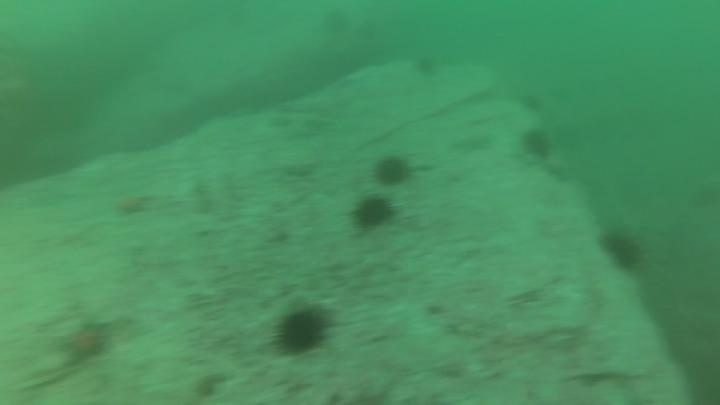echinus: (270, 303, 333, 359), (597, 226, 646, 274), (349, 192, 396, 232), (371, 152, 414, 189), (519, 126, 555, 162), (317, 6, 354, 40), (412, 52, 441, 79), (518, 90, 546, 115)
starfish: (57, 318, 112, 365), (109, 188, 155, 219), (449, 129, 495, 157)
